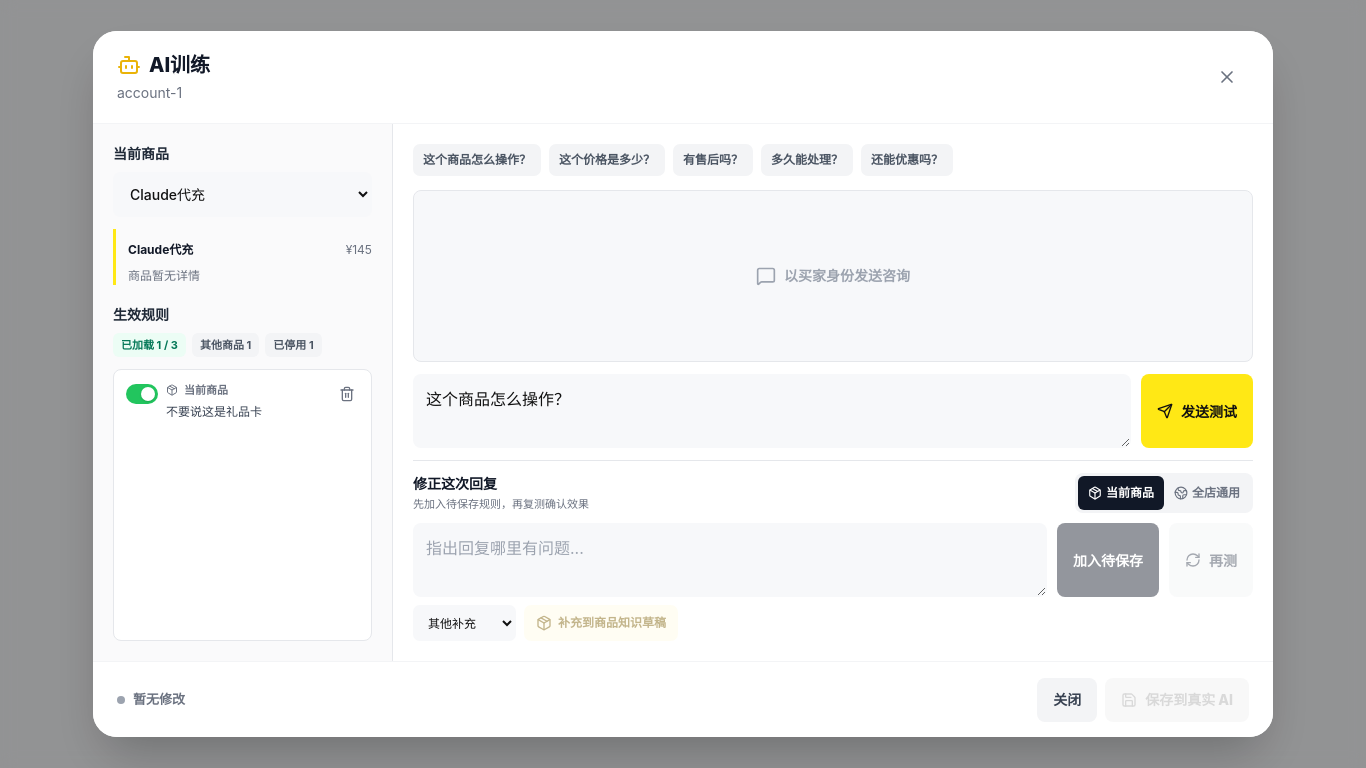
Test: AITrainingLab rule audit › shows when a price rule guard blocks the model reply
Expected: the text "已加载 1 / 3" is shown, [113, 333, 186, 357]
Click the button "发送测试" at x=1197, y=411, box [1141, 374, 1253, 448]
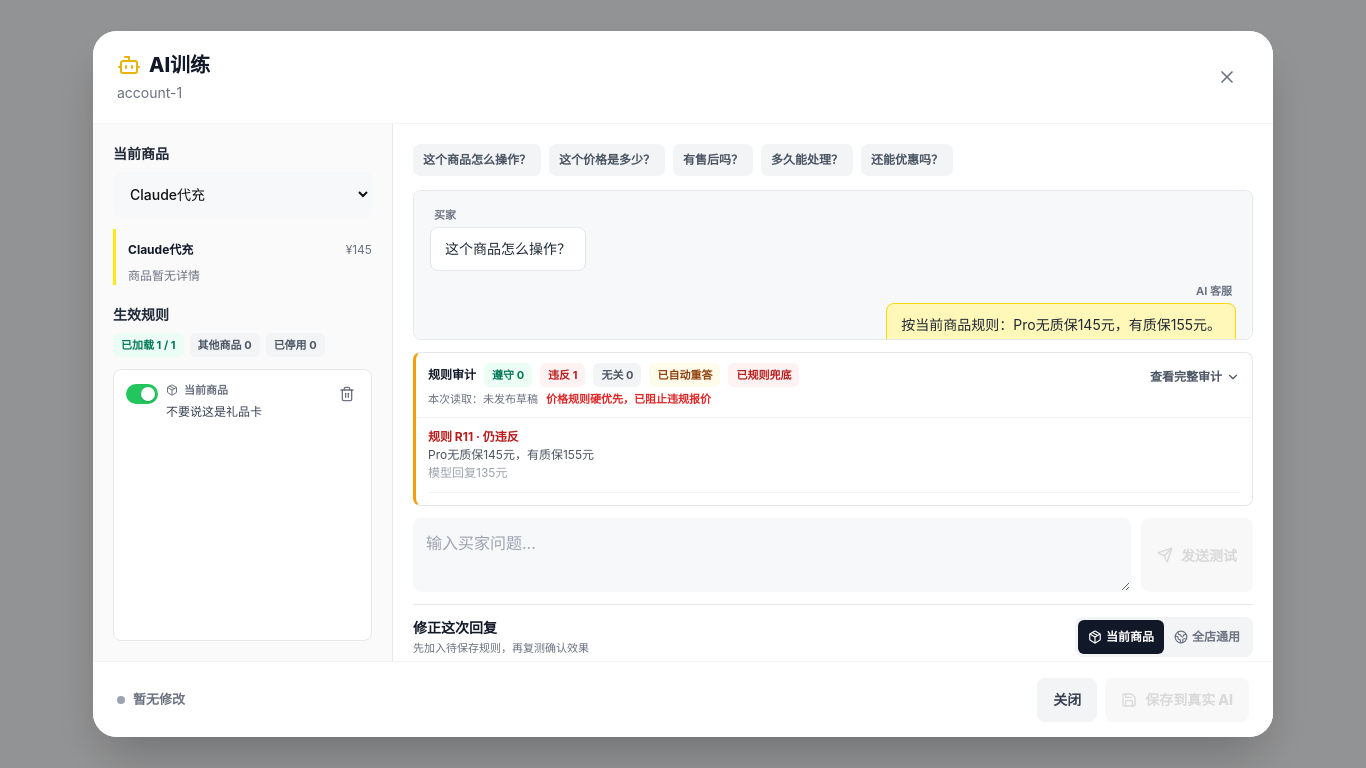
Expected: the text "已规则兜底" is shown, [728, 363, 799, 387]
Expected: the text "价格规则硬优先，已阻止违规报价" is shown, [546, 392, 711, 406]
Expected: the text "按当前商品规则：Pro无质保145元，有质保155元。" is shown, [886, 303, 1236, 340]
